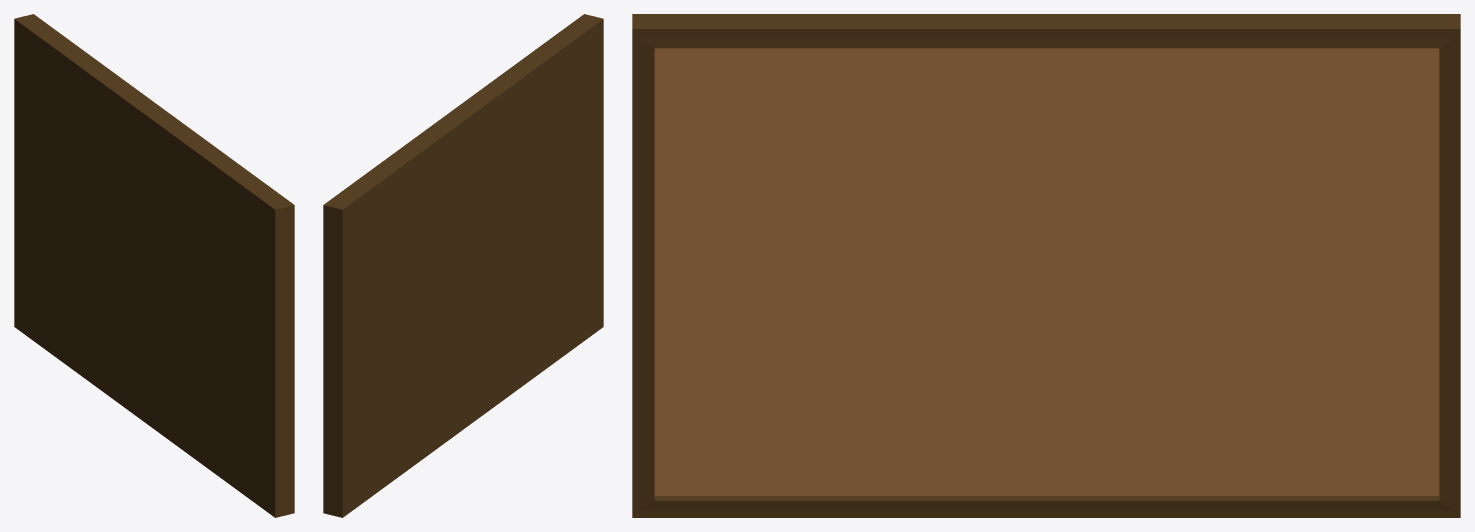
The model's file is Quadro.fbx.
3 renders of one model, left to right at view 1: azimuth 30°, elevation 25°; view 2: azimuth 150°, elevation 25°; view 3: azimuth 270°, elevation 25°, orthographic. The views are drawn at different scales.
Visible parts, largest first — view 1: Cube; view 2: Cube; view 3: Cube.001, Cube.
Part boxes in pixels (x1=…): Cube: x1=14, y1=14, x2=294, y2=517; Cube: x1=323, y1=14, x2=603, y2=517; Cube.001: x1=654, y1=48, x2=1439, y2=495; Cube: x1=632, y1=14, x2=1460, y2=517.
Bounding box in the file's own units: 42.39 × 627 × 964.
